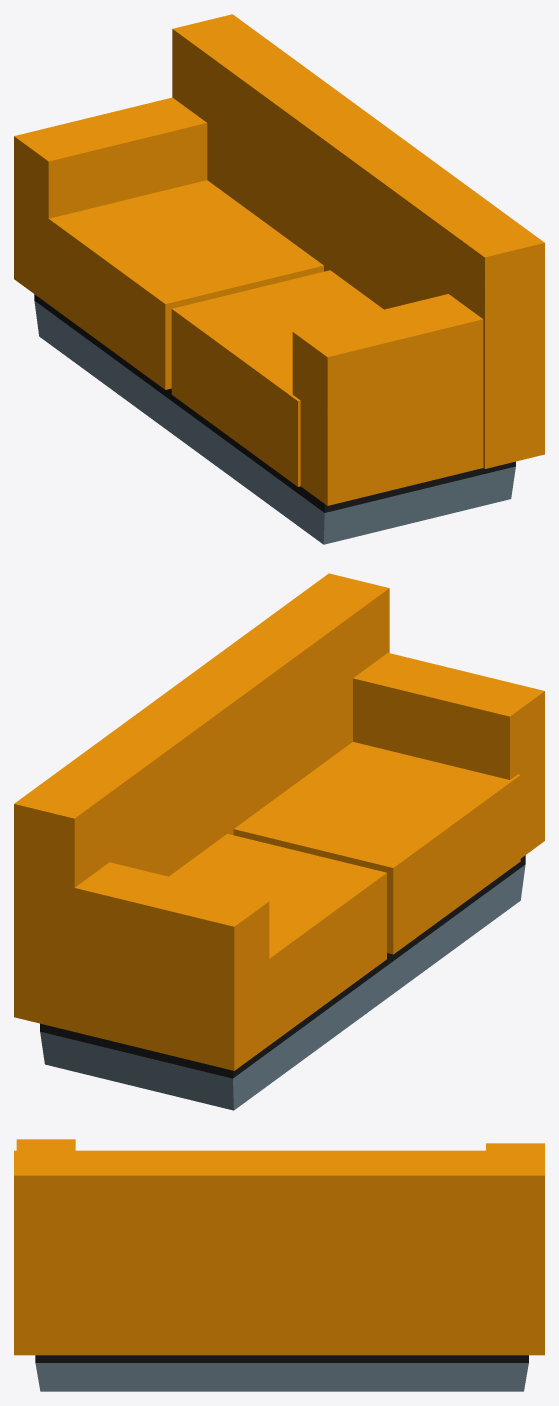
File: yellowcouch.glb
The picture shows the model from 3 angles, top to bottom: view 1: azimuth 30°, elevation 25°; view 2: azimuth 150°, elevation 25°; view 3: azimuth 270°, elevation 25°; orthographic projection. The views are drawn at different scales.
Visible parts, largest first — view 1: group1778046054; view 2: group1778046054; view 3: group1778046054.
Part boxes in pixels (left/top/right/bottom): group1778046054: left=14, top=14, right=544, bottom=544; group1778046054: left=14, top=573, right=544, bottom=1110; group1778046054: left=14, top=1139, right=544, bottom=1391.
Size of the model in its own units: 0.5131 by 0.5901 by 1.27.
